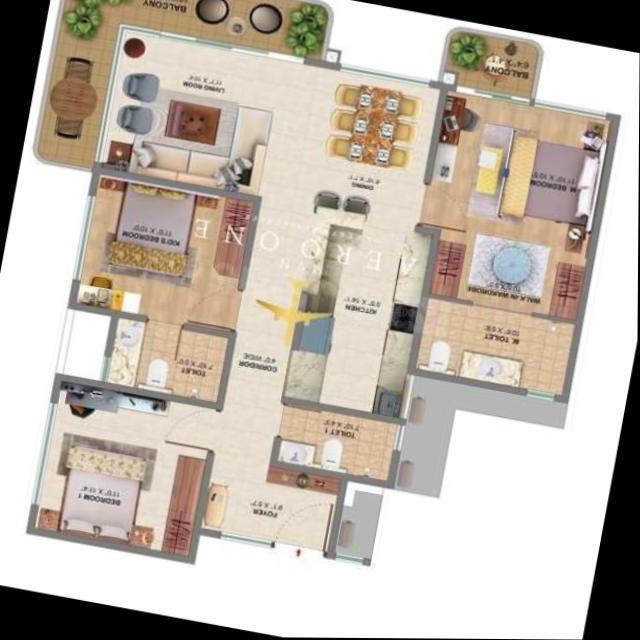Balcony-Sitout: (40, 0, 330, 168), (445, 26, 543, 98)
Bedroom: (36, 380, 217, 555)
Bedroom with Toilet: (415, 86, 618, 400), (75, 172, 260, 407)
Dining: (327, 78, 425, 171)
Enterance-Foyer: (201, 455, 346, 554)
Kitchen: (287, 213, 434, 418)
Living: (101, 31, 290, 196)
Toilet: (418, 297, 578, 395), (110, 317, 231, 401), (278, 403, 400, 481)
